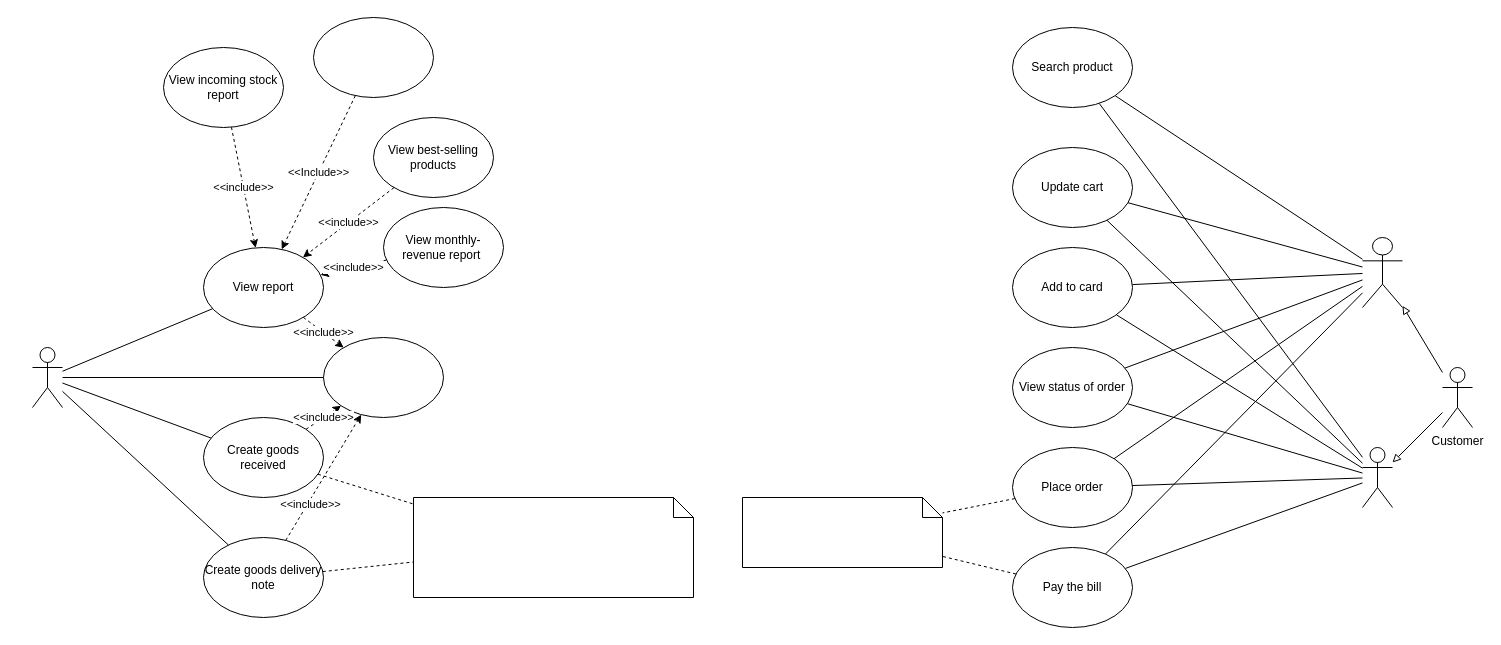
The diagram is 1501 pixels wide and 645 high, and some of its shapes have lost their labels. The centre of each missing label's shape, as x and y in pixels:
"Accountant" belongs at pixel 47 377.
"Consumer" belongs at pixel 1382 272.
"Creating date, good's information, accountant's name (by default)" belongs at pixel 553 547.
"Login" belongs at pixel 383 377.
"Modify address, payment method" belongs at pixel 842 532.
"Retailer" belongs at pixel 1377 477.
"View outcoming stock report" belongs at pixel 373 57.
